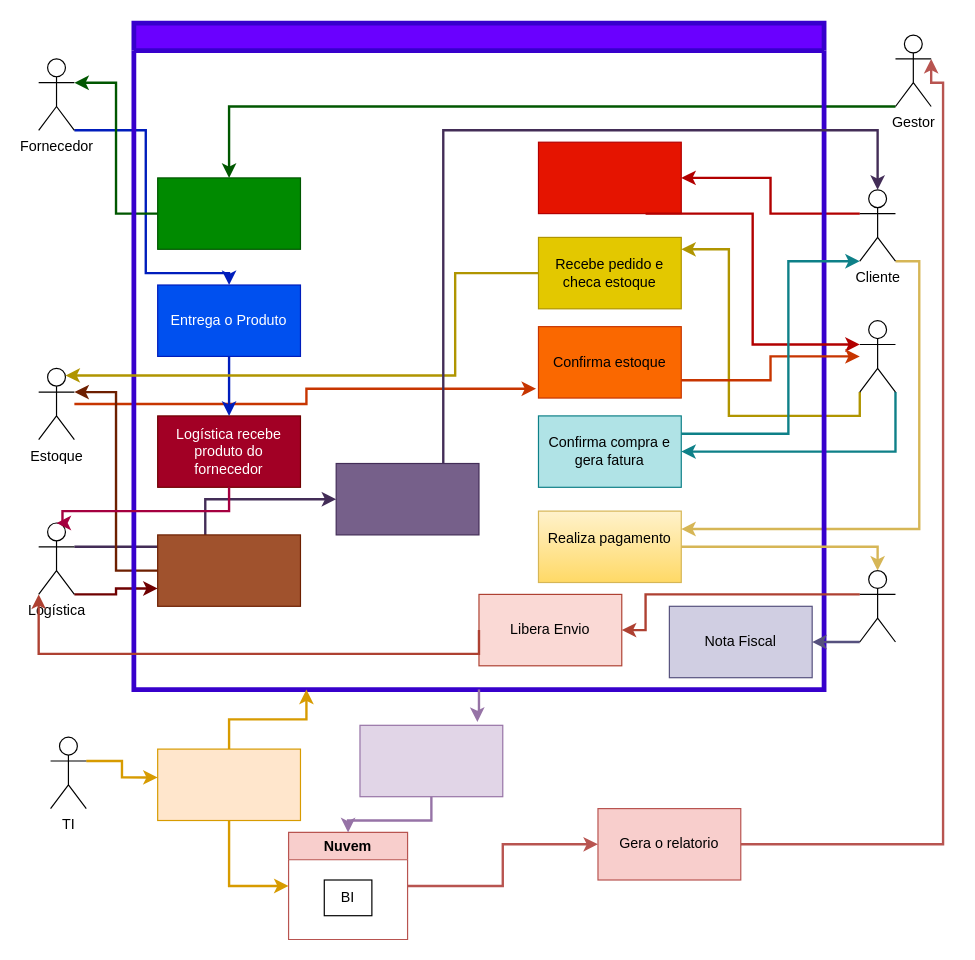
Image size: 975x960. Some labels were removed from this diagram. The box of each missing label's shape, as (x1, y1, x2, y2) in pixels:
API Transmite os dados: (359, 724, 503, 797)
Emite Pedido: (156, 177, 300, 249)
ERP: (131, 20, 826, 691)
Financeiro: (859, 569, 895, 642)
Leva o produto ao estoque: (156, 534, 300, 606)
Logistica pega o produto e entrega ao cliente: (335, 462, 479, 535)
Organiza o sistema: (156, 748, 300, 821)
Realiza compra: (537, 141, 681, 214)
Vendas: (859, 320, 895, 392)
